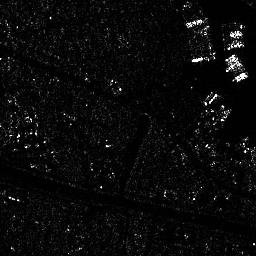ship: (223, 40, 245, 51)
